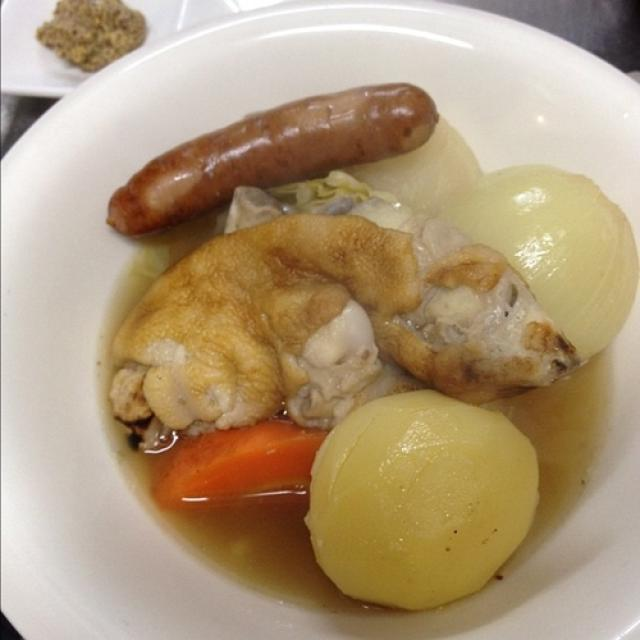汤锅炖物: (41, 28, 630, 616)
